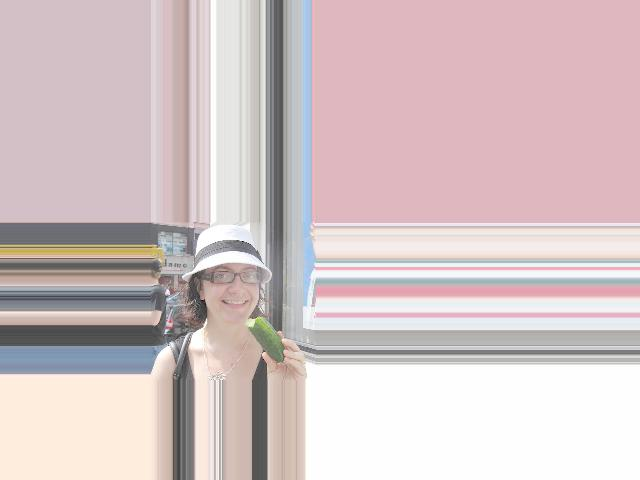cucumber: (245, 317, 286, 362)
